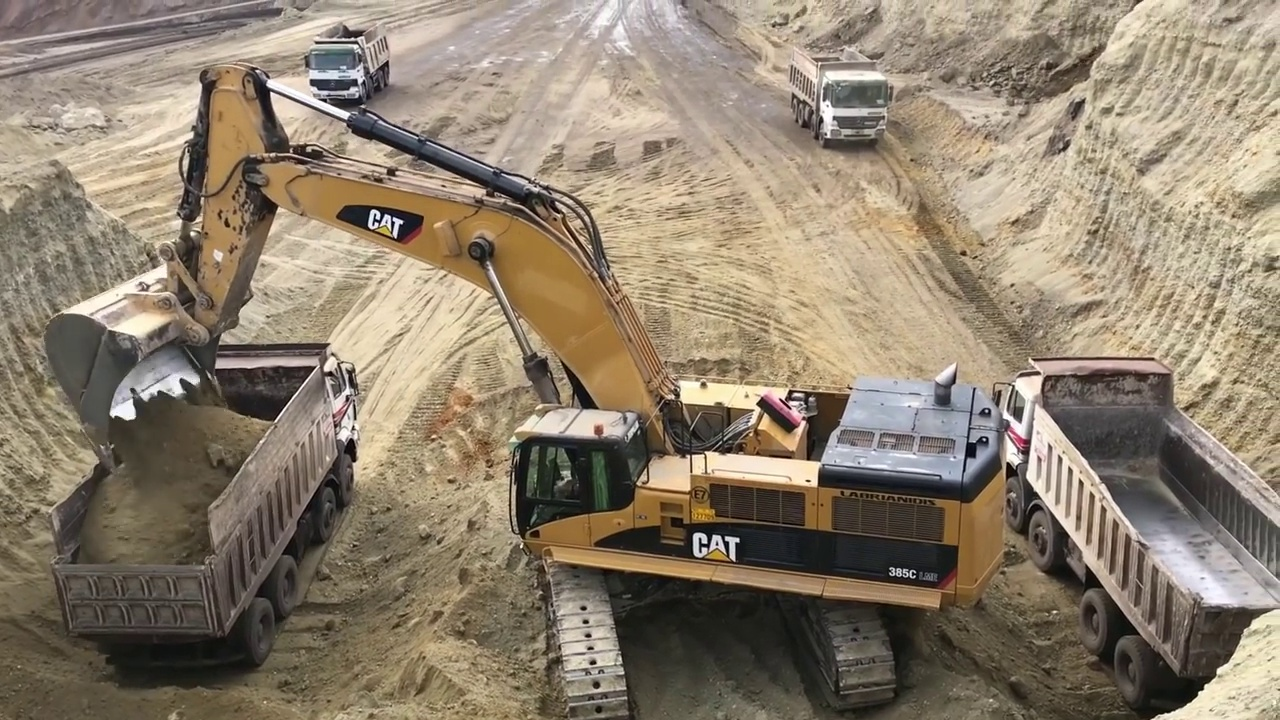excavator: (50, 63, 1009, 720)
truck: (50, 341, 363, 666), (1003, 354, 1280, 711), (789, 45, 886, 146), (301, 24, 394, 100)
